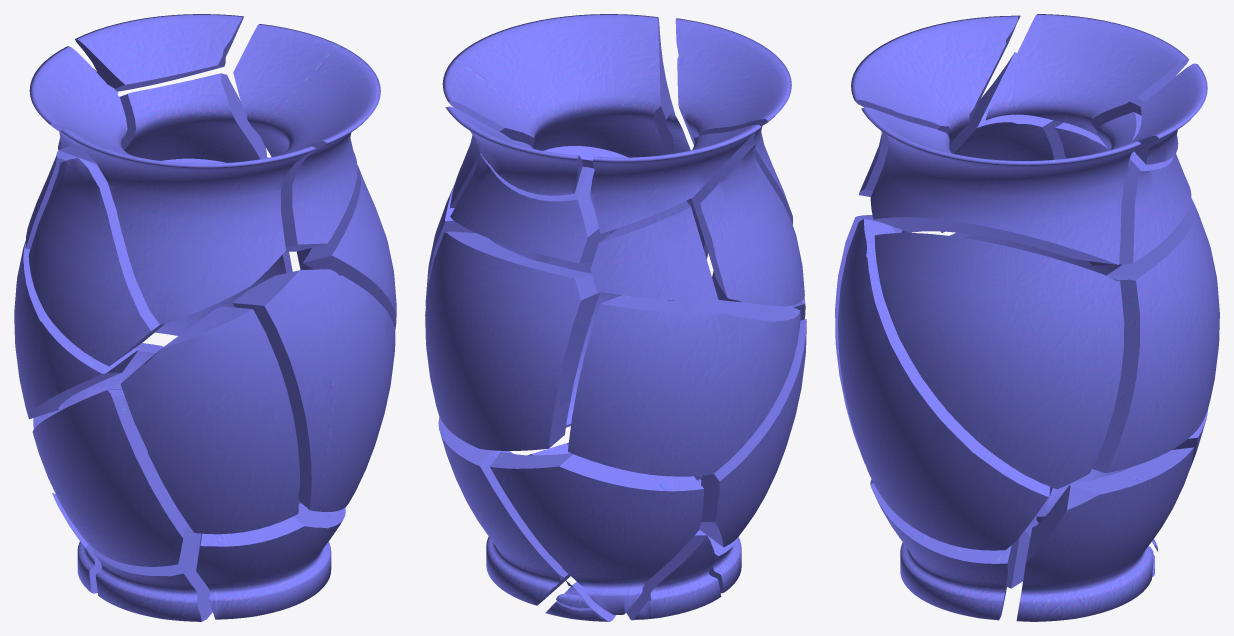
The model's file is vase broken.fbx.
3 renders of one model, left to right at view 1: azimuth 30°, elevation 25°; view 2: azimuth 150°, elevation 25°; view 3: azimuth 270°, elevation 25°, orthographic.
Parts seen in each view (by area): view 1: Pot_cell.013, Pot_cell.007, Pot_cell.014, Pot_cell.019, Pot_cell.005, Pot_cell.018, Pot_cell.003, Pot_cell.022, Pot_cell.015, Pot_cell.010, Pot_cell.002, Pot_cell.006 (+5 smaller); view 2: Pot_cell.010, Pot_cell.020, Pot_cell.019, Pot_cell.016, Pot_cell.018, Pot_cell.007, Pot_cell.022, Pot_cell.004, Pot_cell.011, Pot_cell.002, Pot_cell.005, Pot_cell.015 (+6 smaller); view 3: Pot_cell.001, Pot_cell.014, Pot_cell.019, Pot_cell.020, Pot_cell.011, Pot_cell.002, Pot_cell.007, Pot_cell.003, Pot_cell.022, Pot_cell.018, Pot_cell.015, Pot_cell.004 (+4 smaller).
Boxes of the visible parts, x1,y1,x2,y2 form: Pot_cell.013: (121,306,299,534); Pot_cell.007: (60,129,315,324); Pot_cell.014: (232,269,395,511); Pot_cell.019: (233,24,380,251); Pot_cell.005: (32,389,185,566); Pot_cell.018: (28,157,165,366); Pot_cell.003: (196,501,345,619); Pot_cell.022: (120,73,266,162); Pot_cell.015: (75,14,243,91); Pot_cell.010: (14,241,138,418); Pot_cell.002: (29,46,132,163); Pot_cell.006: (92,521,212,621); Pot_cell.010: (568,295,800,476); Pot_cell.020: (425,231,600,450); Pot_cell.019: (442,14,674,208); Pot_cell.016: (490,451,704,614); Pot_cell.018: (691,144,804,306); Pot_cell.007: (675,18,792,224); Pot_cell.022: (450,139,610,263); Pot_cell.004: (590,201,718,301); Pot_cell.011: (438,417,570,605); Pot_cell.002: (590,124,761,233); Pot_cell.005: (699,319,806,547); Pot_cell.015: (445,106,583,195); Pot_cell.001: (874,233,1124,489); Pot_cell.014: (838,219,1050,550); Pot_cell.019: (861,107,1140,264); Pot_cell.020: (1092,198,1219,472); Pot_cell.011: (1016,447,1193,621); Pot_cell.002: (986,14,1189,136); Pot_cell.007: (851,15,1020,196); Pot_cell.003: (870,479,1014,620); Pot_cell.022: (1089,112,1191,265); Pot_cell.018: (940,52,1065,232); Pot_cell.015: (1130,63,1207,164); Pot_cell.004: (1055,122,1108,158).
Bounding box in the file's own units: 75.52 × 106 × 75.55.
